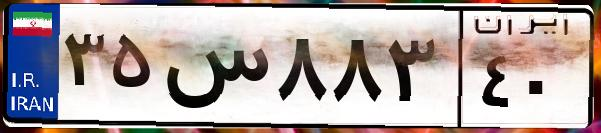0: (525, 38, 570, 115)
3: (385, 28, 445, 110), (57, 26, 110, 100)
4: (475, 38, 525, 113)
5: (110, 28, 158, 98)
8: (270, 28, 330, 110), (330, 28, 385, 110)
س: (158, 20, 270, 120)
